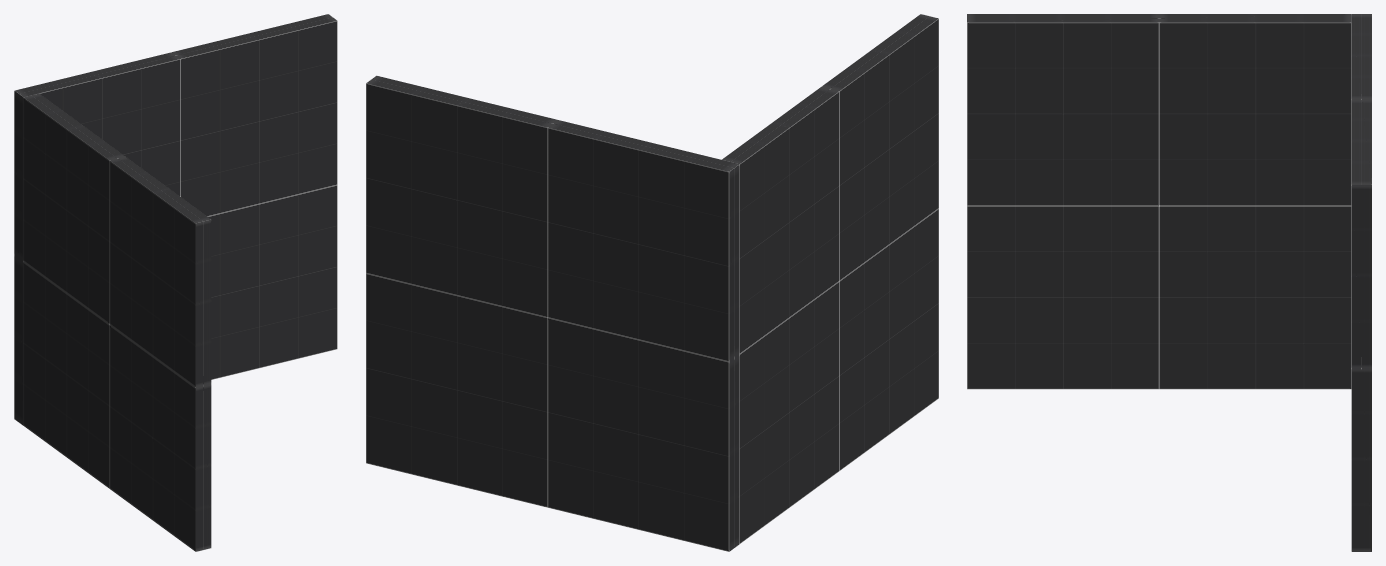
File: corner.glb
3 views of the same model, side by side, from view 1: azimuth 30°, elevation 25°; view 2: azimuth 150°, elevation 25°; view 3: azimuth 270°, elevation 25° (orthographic). The views are drawn at different scales.
Visible parts, largest first — view 1: corner-col; view 2: corner-col; view 3: corner-col.
Part boxes in pixels (<box>): corner-col: <box>14,14,337,551</box>; corner-col: <box>366,14,938,551</box>; corner-col: <box>967,14,1371,551</box>.
Bounding box in the file's own units: 2 × 2 × 2.
1 material, 1 textured.
